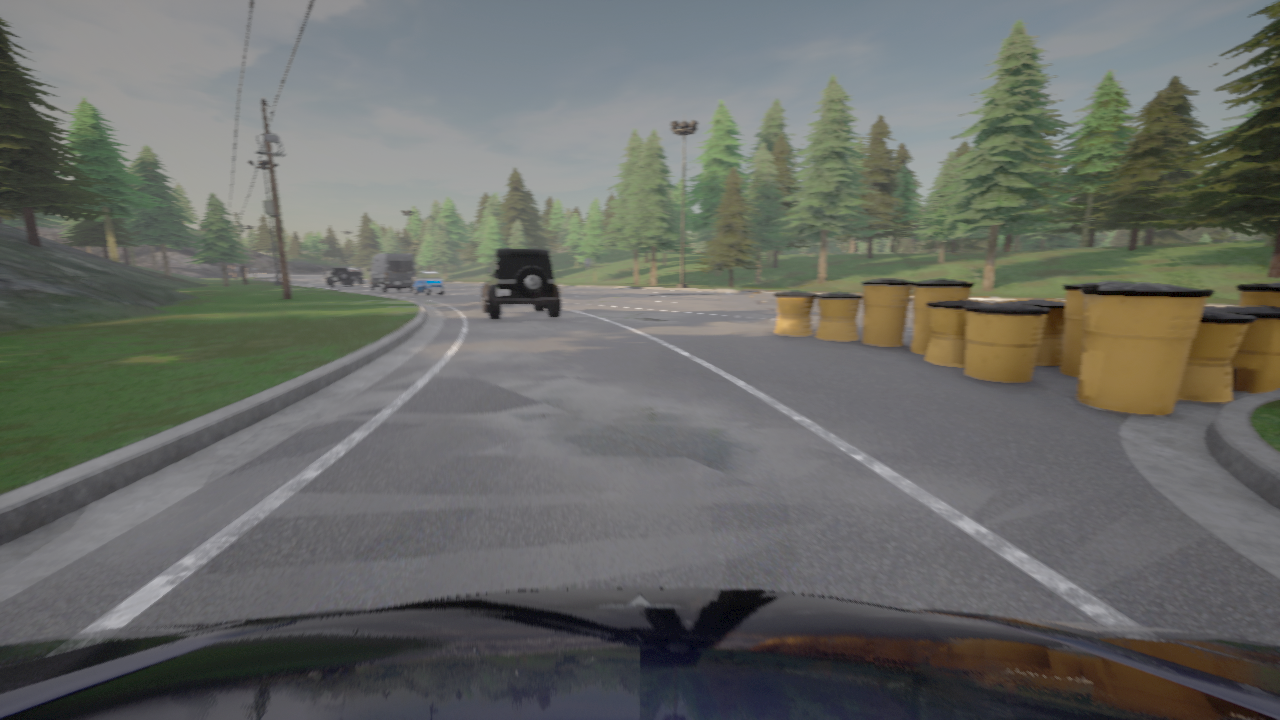cyclist: (0, 588, 1279, 719), (481, 247, 561, 319), (367, 253, 416, 292), (413, 271, 444, 295), (325, 267, 352, 286), (341, 267, 362, 283)
